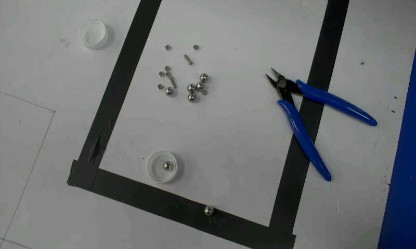ironball: (203, 205, 213, 216), (162, 161, 172, 171), (165, 86, 174, 95), (186, 83, 195, 92), (199, 72, 207, 81), (187, 92, 195, 100), (196, 81, 203, 89)
